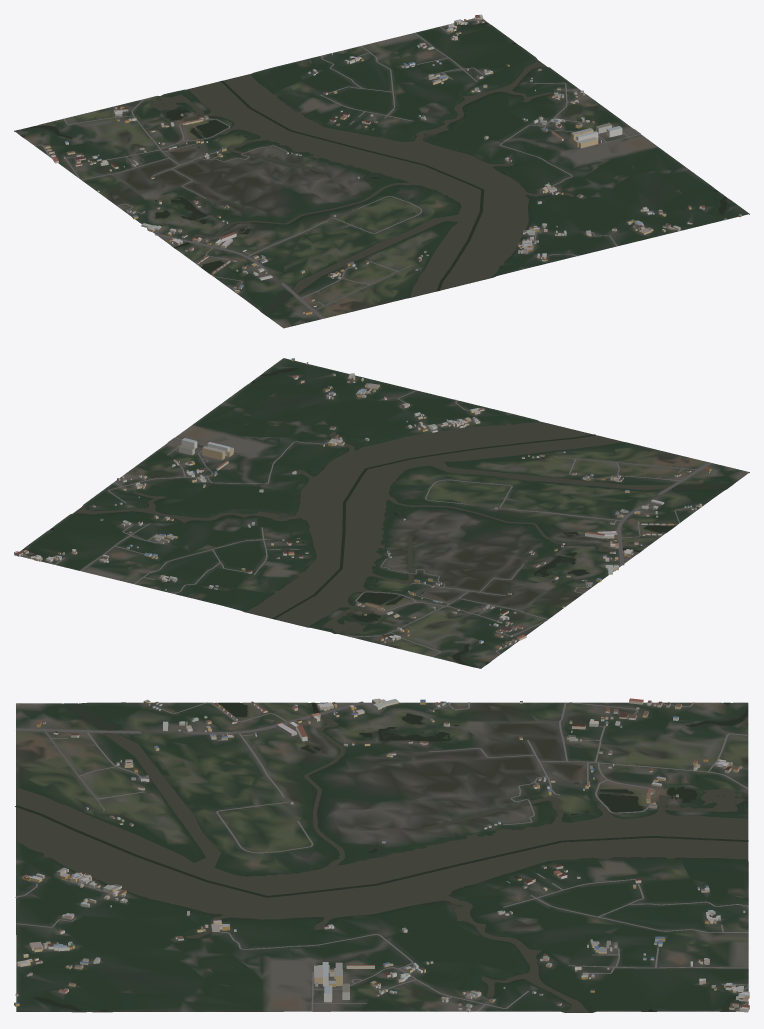
3 renders of one model, top to bottom at view 1: azimuth 30°, elevation 25°; view 2: azimuth 150°, elevation 25°; view 3: azimuth 270°, elevation 25°, orthographic. The views are drawn at different scales.
Visible parts, largest first — view 1: ground, water, buildings, roads; view 2: ground, water, buildings, roads; view 3: ground, water, buildings, roads.
Boxes of the visible parts, x1,y1,x2,y2 form: ground: (14, 18, 749, 328); water: (21, 22, 726, 315); buildings: (44, 14, 741, 314); roads: (34, 19, 640, 327); ground: (14, 358, 749, 668); water: (22, 368, 731, 666); buildings: (14, 358, 711, 649); roads: (23, 390, 748, 656); ground: (16, 702, 748, 1012); water: (15, 702, 748, 1012); buildings: (14, 698, 749, 1012); roads: (15, 701, 748, 1011).
Size of the model in its own units: 1410 by 29.4 by 1407.
